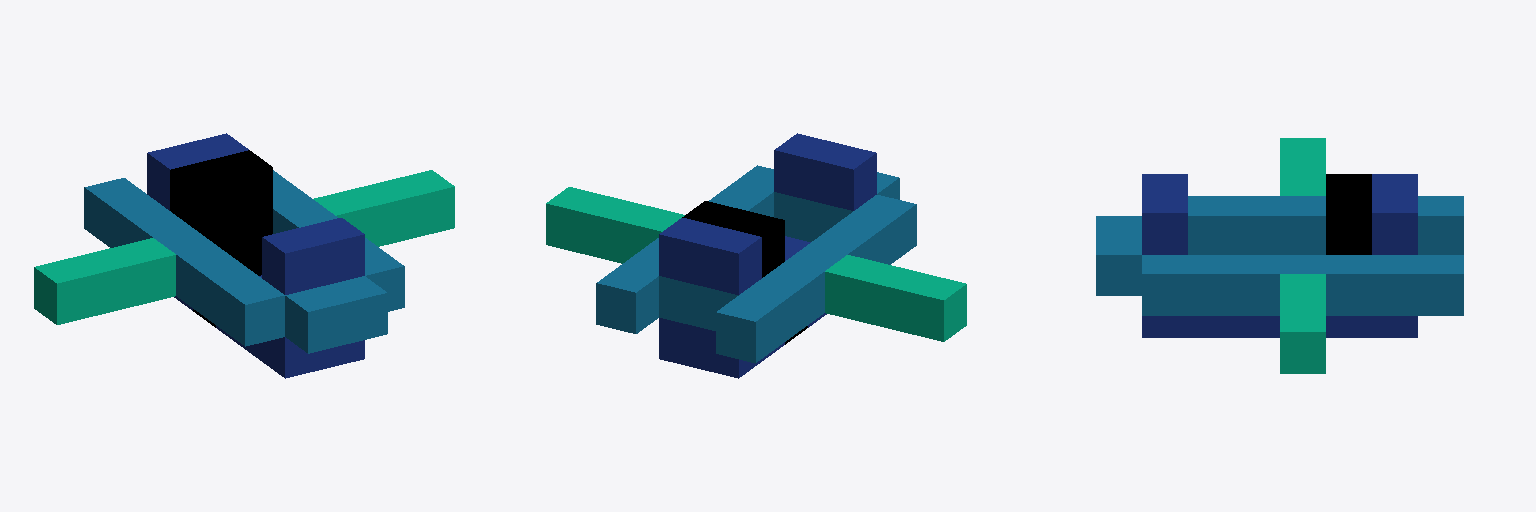
The picture shows the model from 3 angles: view 1: azimuth 30°, elevation 25°; view 2: azimuth 150°, elevation 25°; view 3: azimuth 270°, elevation 25°; orthographic projection.
Visible parts, largest first — view 1: object 1; view 2: object 1; view 3: object 1.
Part boxes in pixels (left/top/right/bottom): object 1: left=34, top=133, right=454, bottom=378; object 1: left=546, top=133, right=966, bottom=378; object 1: left=1096, top=138, right=1463, bottom=373.
Size of the model in its own units: 1 by 0.3 by 0.8.
Materials: 1 (1 with a texture image).